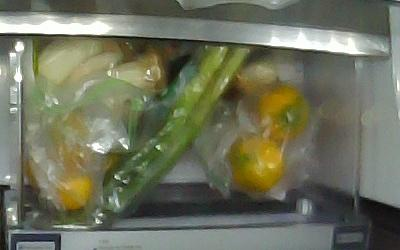tangerine_vinyl: (226, 132, 286, 192), (255, 82, 308, 142), (56, 172, 92, 209)
